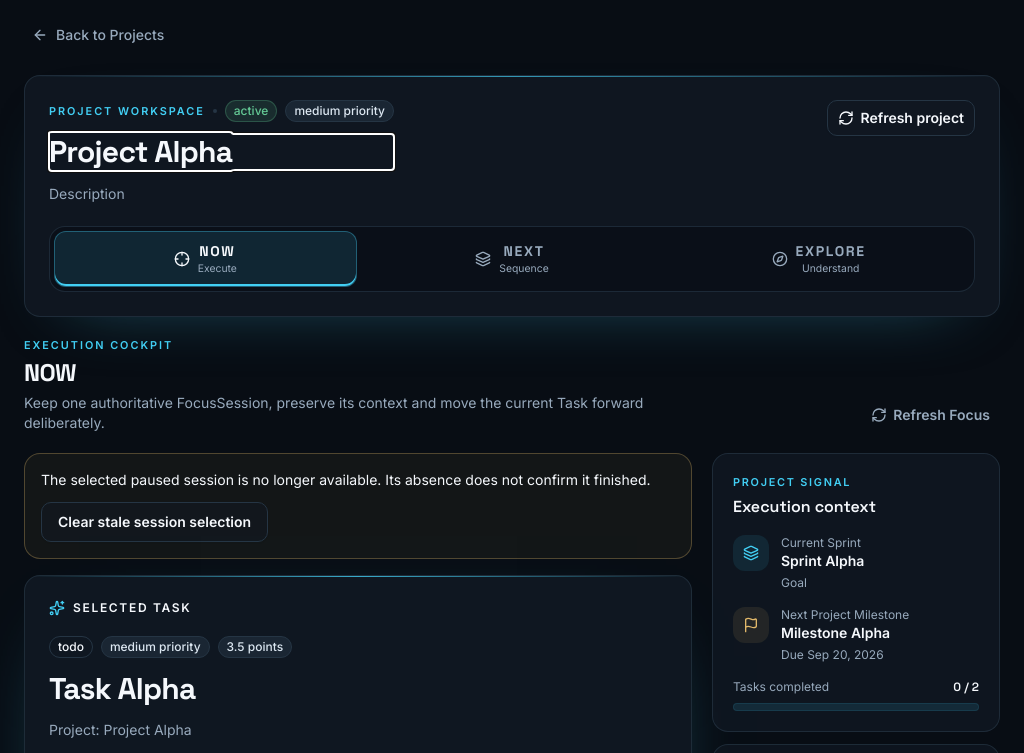
Scenario: Focus execution (mocked HTTP/jsdom, not a live backend/browser) › rejects a stale paused-session URL without inferring finish or starting another session
Expected: the text "selected paused session is no longer available" is shown, [41,471,650,488]
Click the button "Clear stale session selection": (155,522) [41,502,268,542]
(page scrolled)
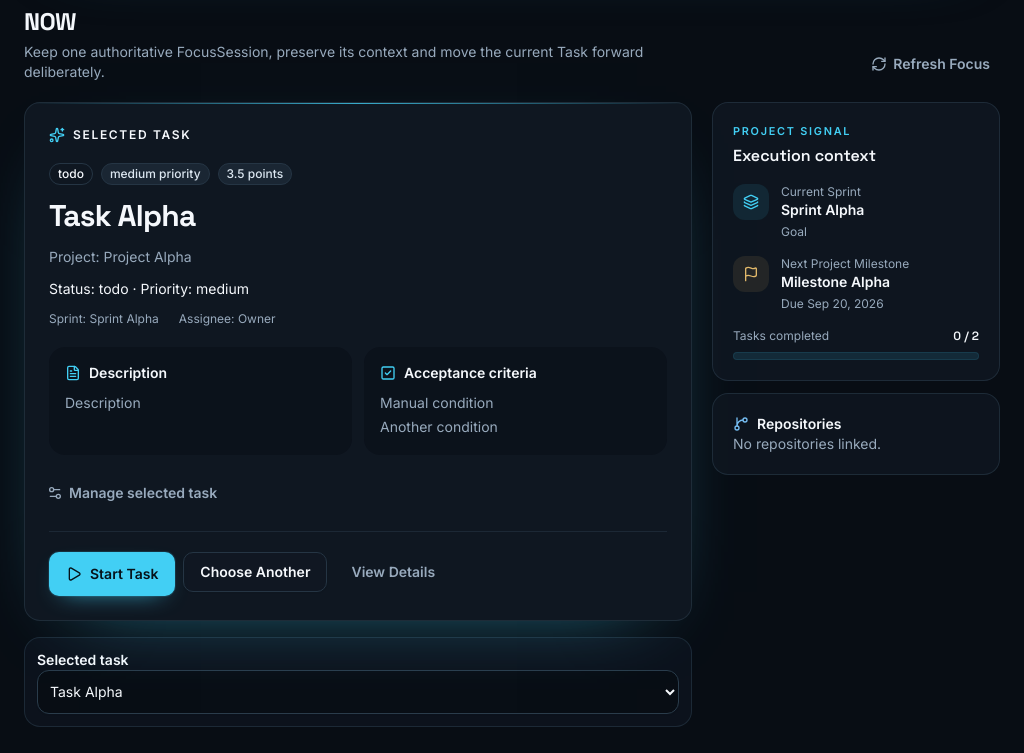
Result: the button "Start Task" is enabled at [49,552,175,596]
